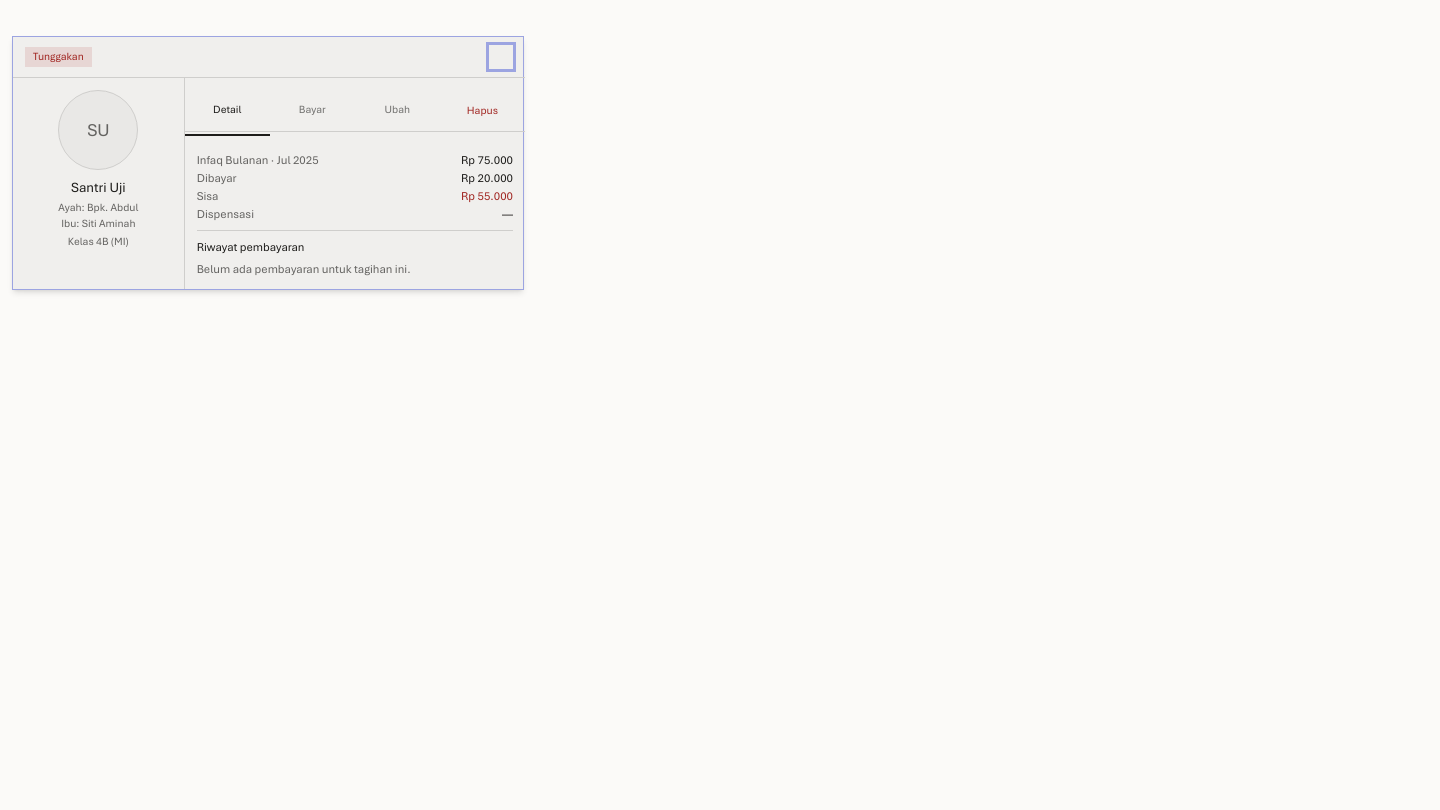
Test: panel ubah › nominal di bawah nilai terbayar ditolak
Click the tab "Ubah" at [397, 102], box 355,78 -> 440,127
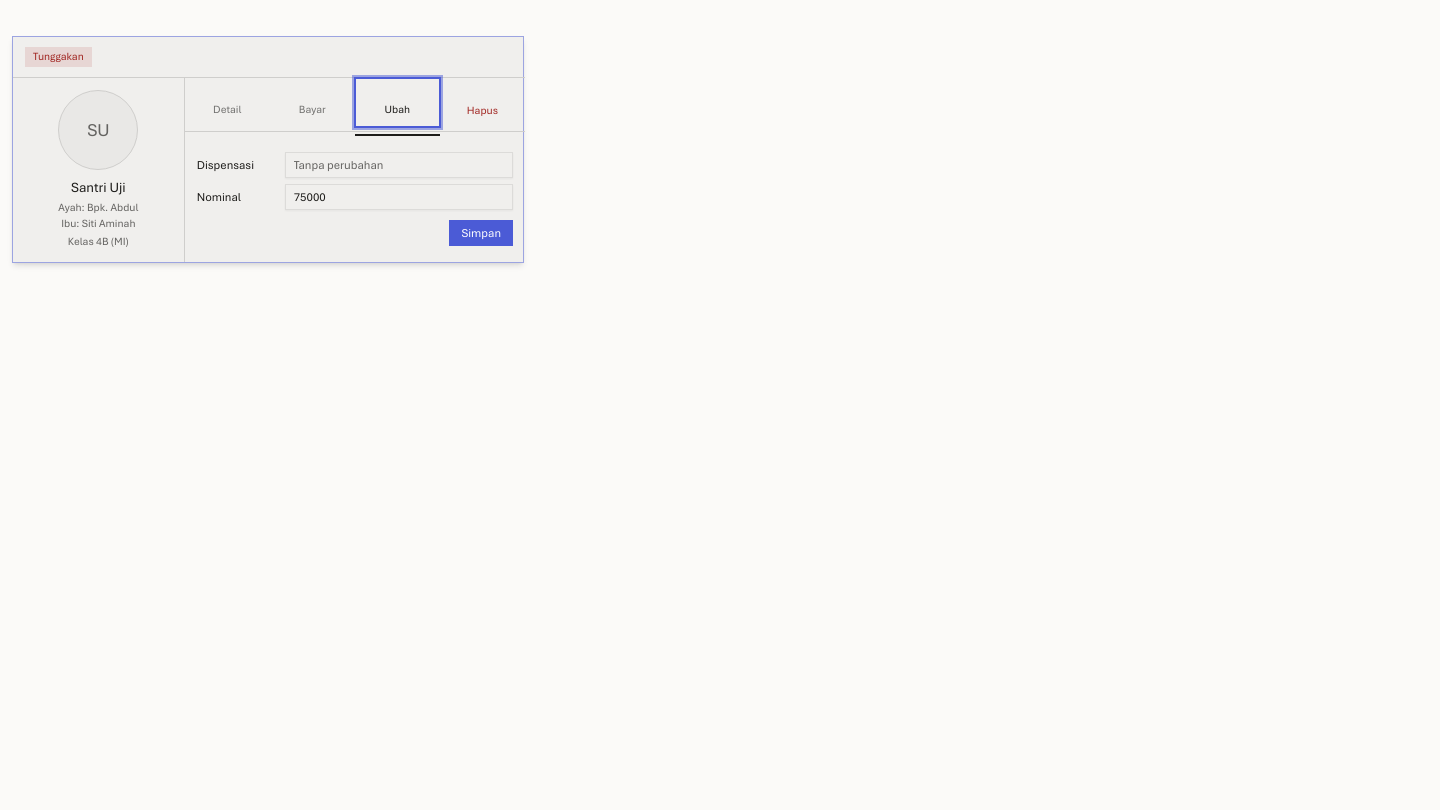
Replace the text in the number field labelled "Nominal" with "10000" at [399, 197], box 285,184 -> 513,210
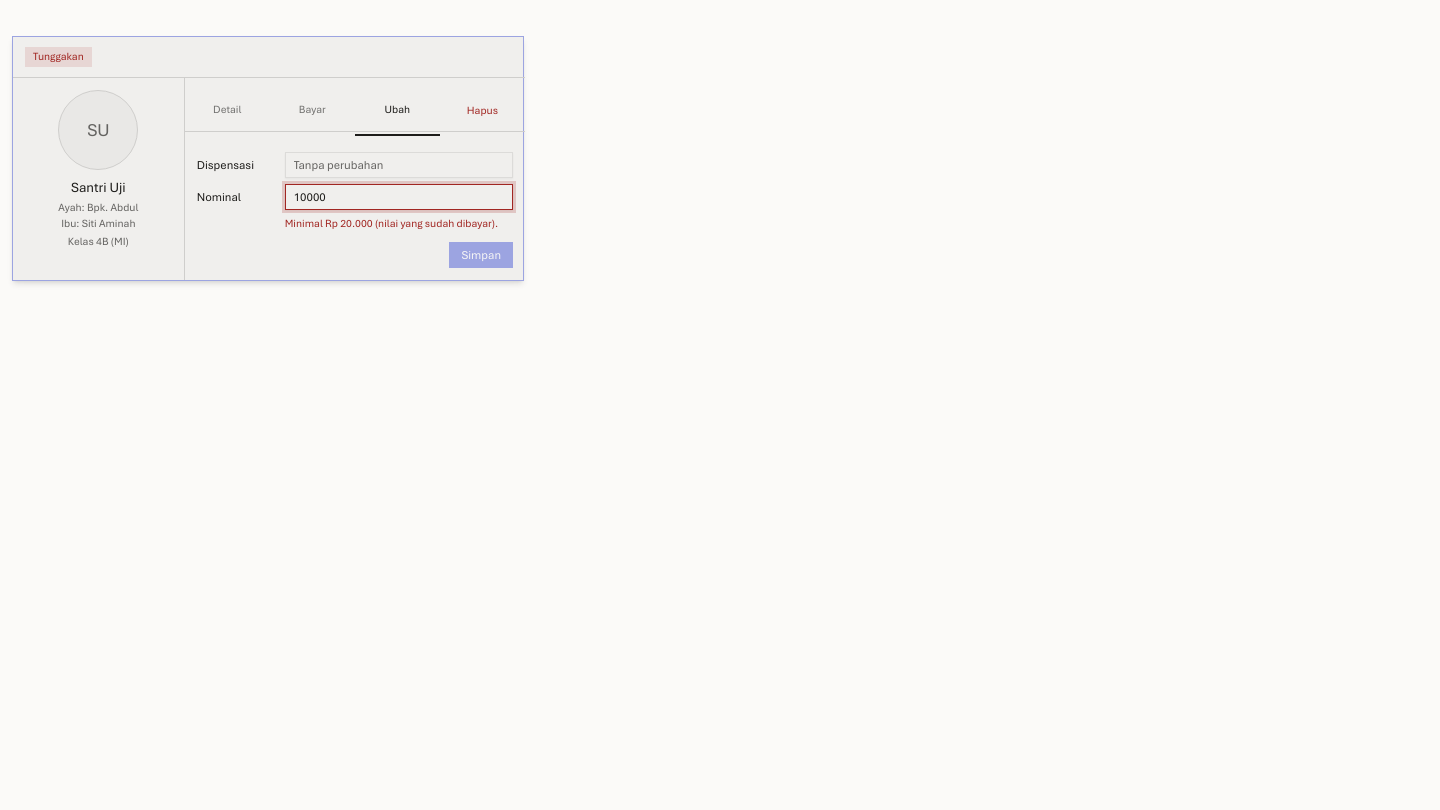
Expected: the button with id "btn_ubah_simpan" is disabled, 449,242 -> 513,268
Expected: the text "Minimal Rp 20.000 (nilai yang sudah dibayar)." is shown, 285,216 -> 513,232
